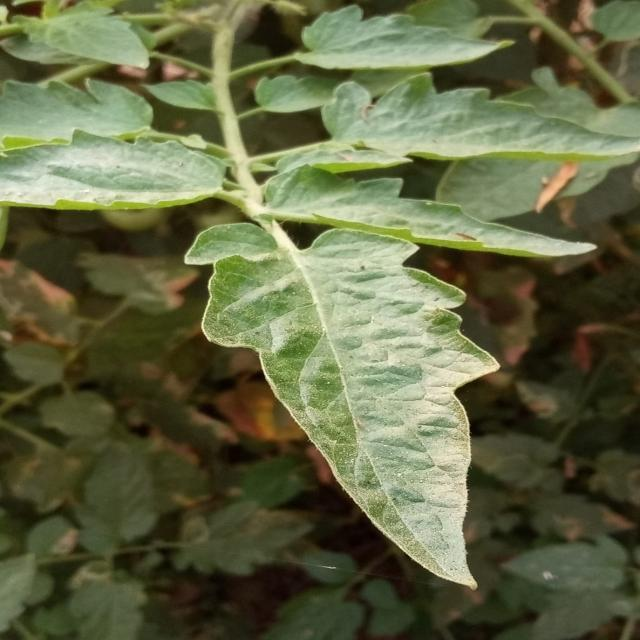Healthy: (153, 130, 613, 608), (0, 127, 226, 219)
